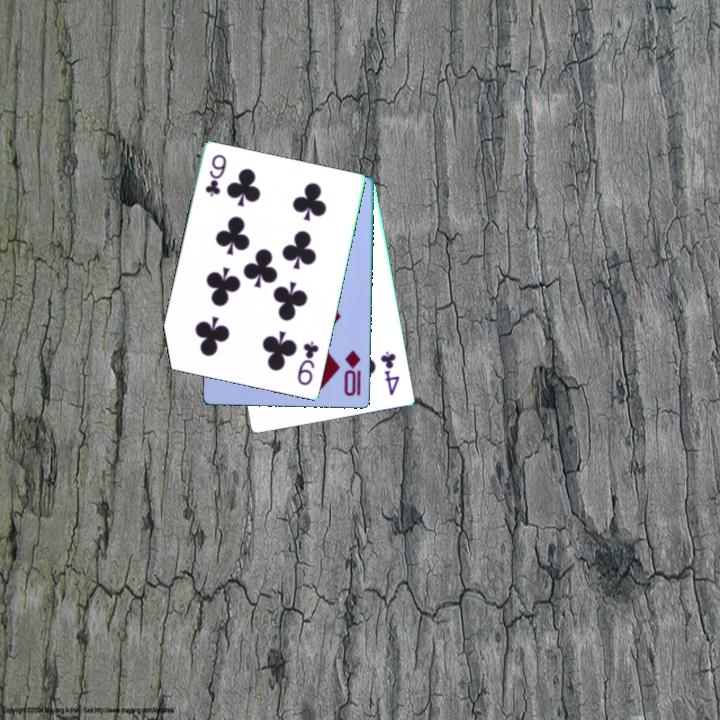10d: (341, 347, 364, 399)
4c: (377, 348, 403, 399)
9c: (294, 338, 322, 389), (202, 151, 230, 200)
